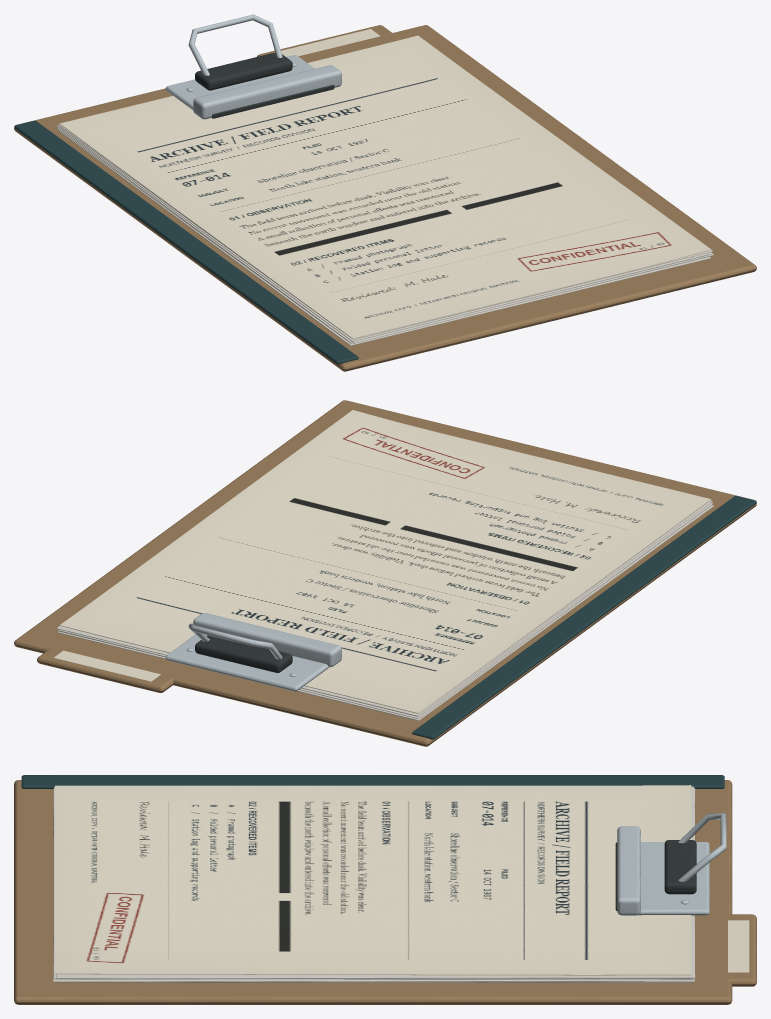
Rendered from SM_Collectible_Dossier.glb.
The picture shows the model from 3 angles, top to bottom: view 1: azimuth 30°, elevation 25°; view 2: azimuth 150°, elevation 25°; view 3: azimuth 270°, elevation 25°; orthographic projection. The views are drawn at different scales.
Visible parts, largest first — view 1: SM_Collectible_Dossier; view 2: SM_Collectible_Dossier; view 3: SM_Collectible_Dossier.
Part boxes in pixels (x1,y1,x2,y2): SM_Collectible_Dossier: [14, 14, 756, 371]; SM_Collectible_Dossier: [14, 400, 756, 746]; SM_Collectible_Dossier: [14, 775, 756, 1004].
Bounding box in the file's own units: 0.2435 × 0.0346 × 0.3455.
Materials: 7 (1 with a texture image).
